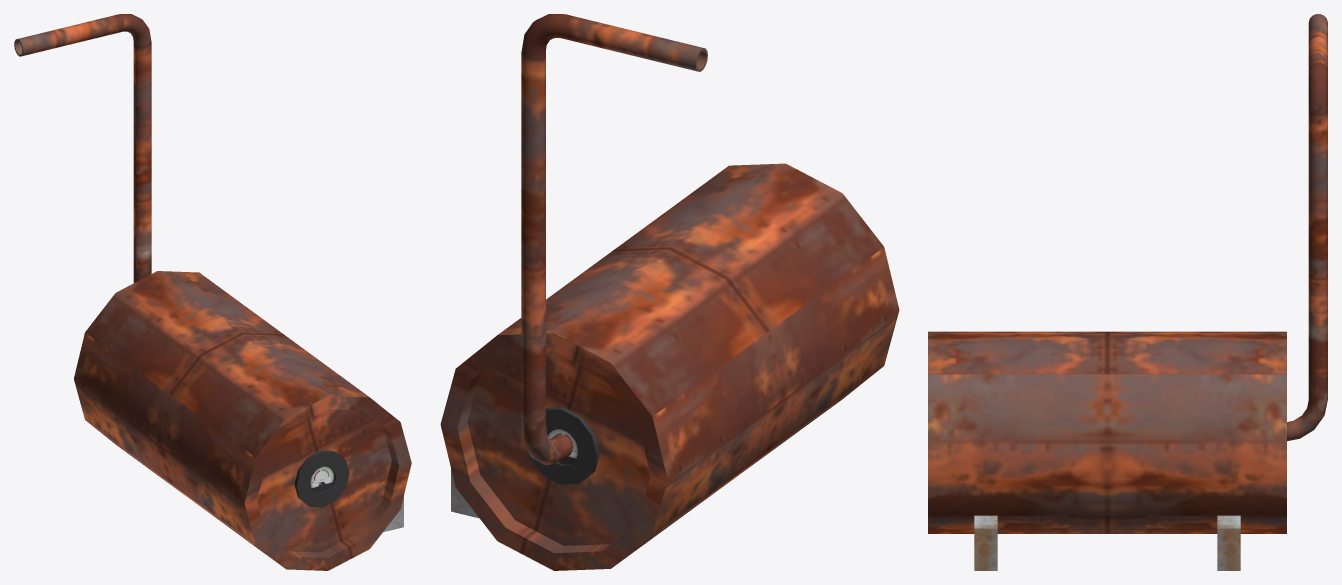
Rendered from gas.fbx.
3 views of the same model, side by side, from view 1: azimuth 30°, elevation 25°; view 2: azimuth 150°, elevation 25°; view 3: azimuth 270°, elevation 25° (orthographic). The views are drawn at different scales.
Parts seen in each view (by area): view 1: gas; view 2: gas; view 3: gas.
Boxes of the visible parts, x1,y1,x2,y2 form: gas: (14,14,411,570); gas: (440,14,899,570); gas: (928,14,1327,570).
Bounding box in the file's own units: 140 × 258 × 209.
